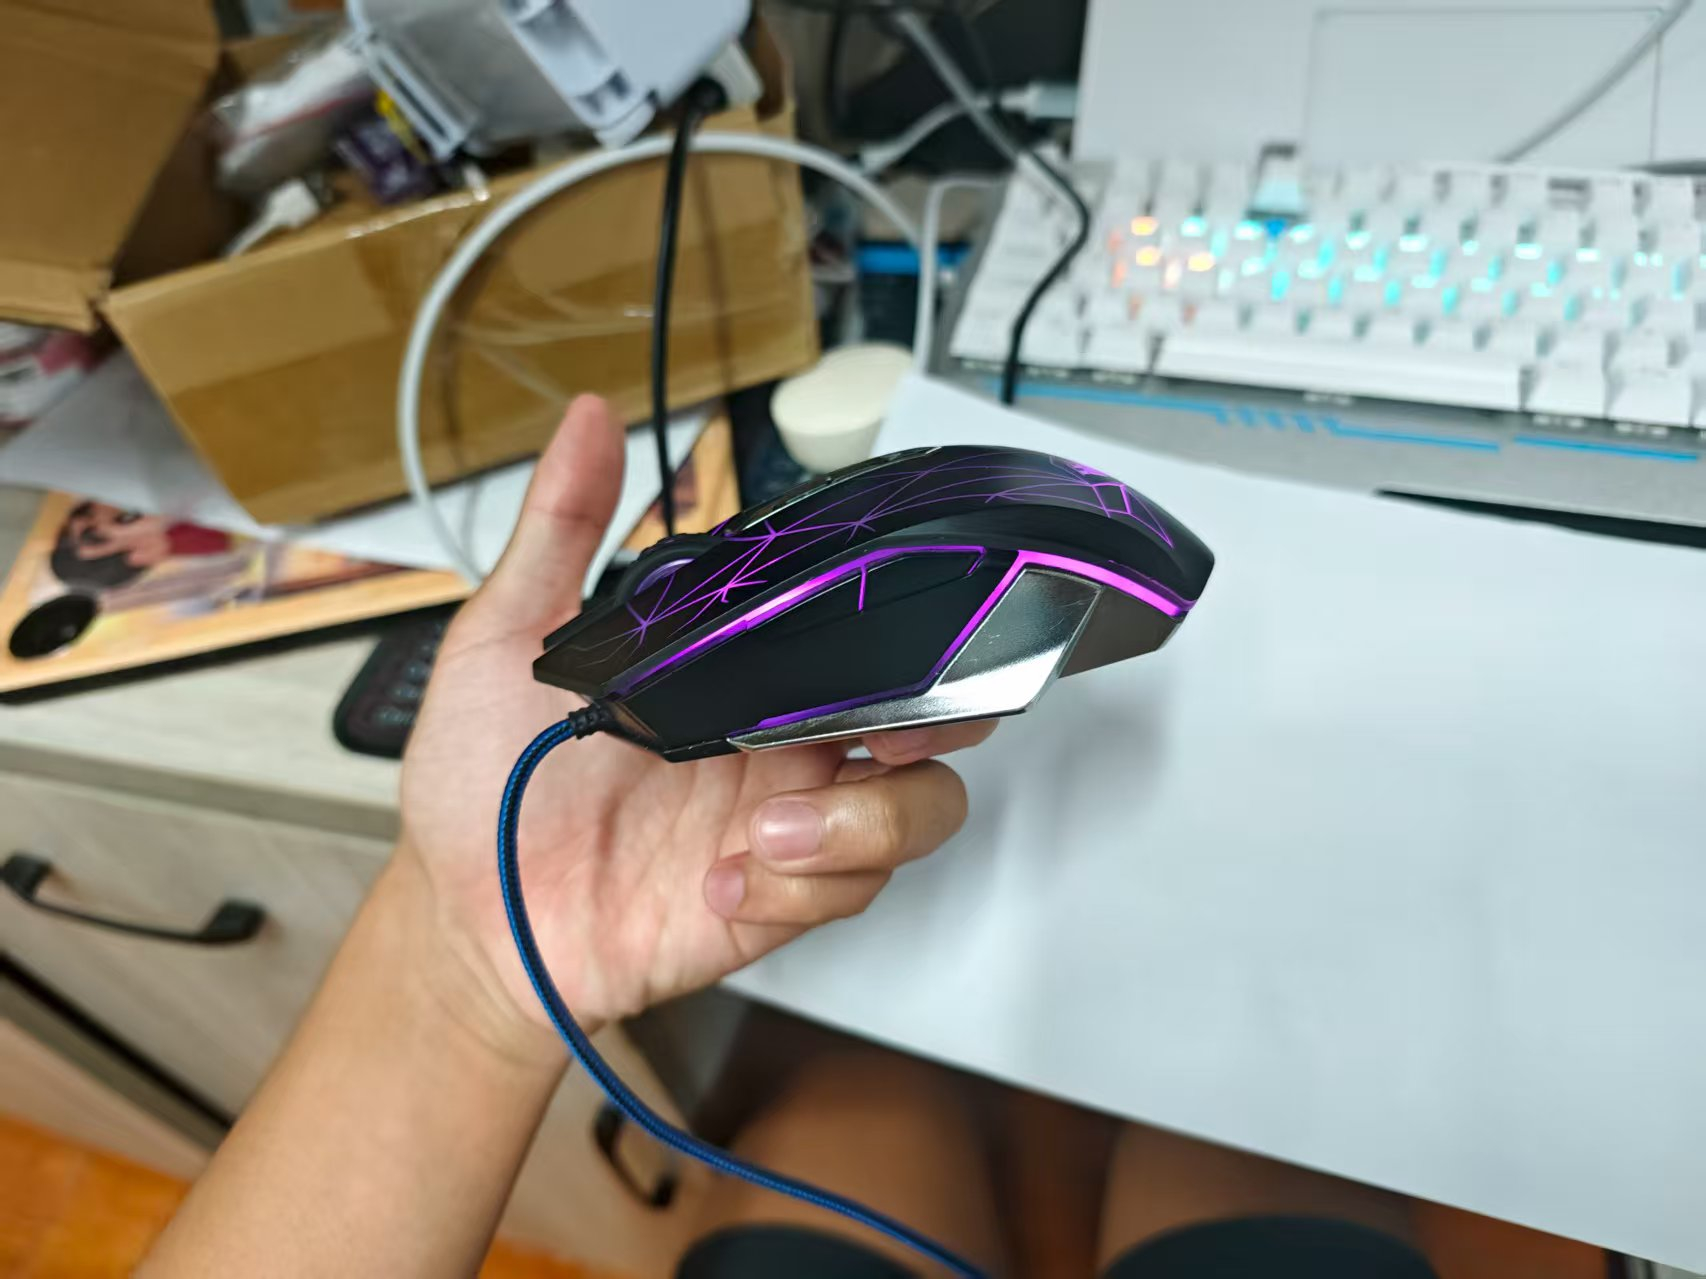mouse: (516, 431, 1230, 775)
